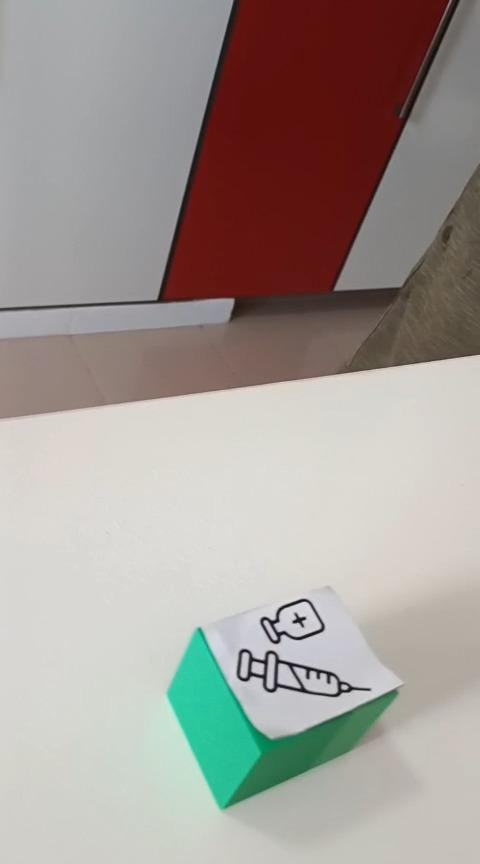antiseptic cream: (165, 583, 404, 810)
